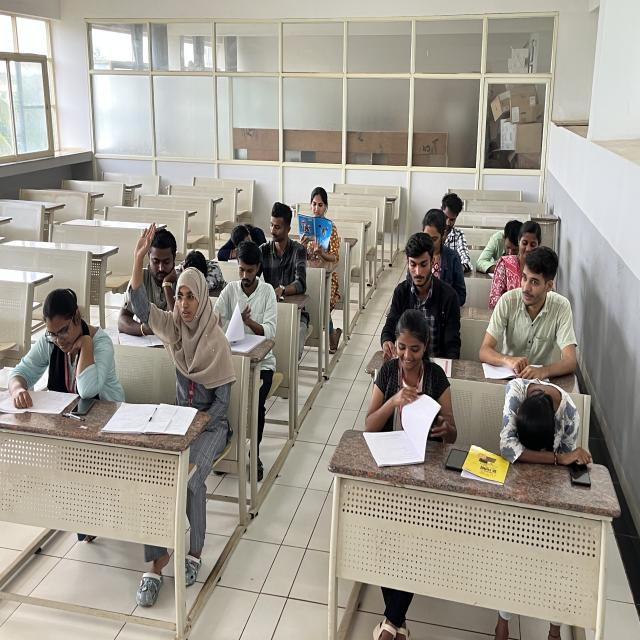Hand Rising: (116, 215, 246, 390)
Reading: (5, 286, 122, 414), (359, 307, 455, 454), (217, 246, 276, 348), (294, 185, 342, 255)
Sleeping: (489, 369, 600, 479), (213, 217, 271, 260)
